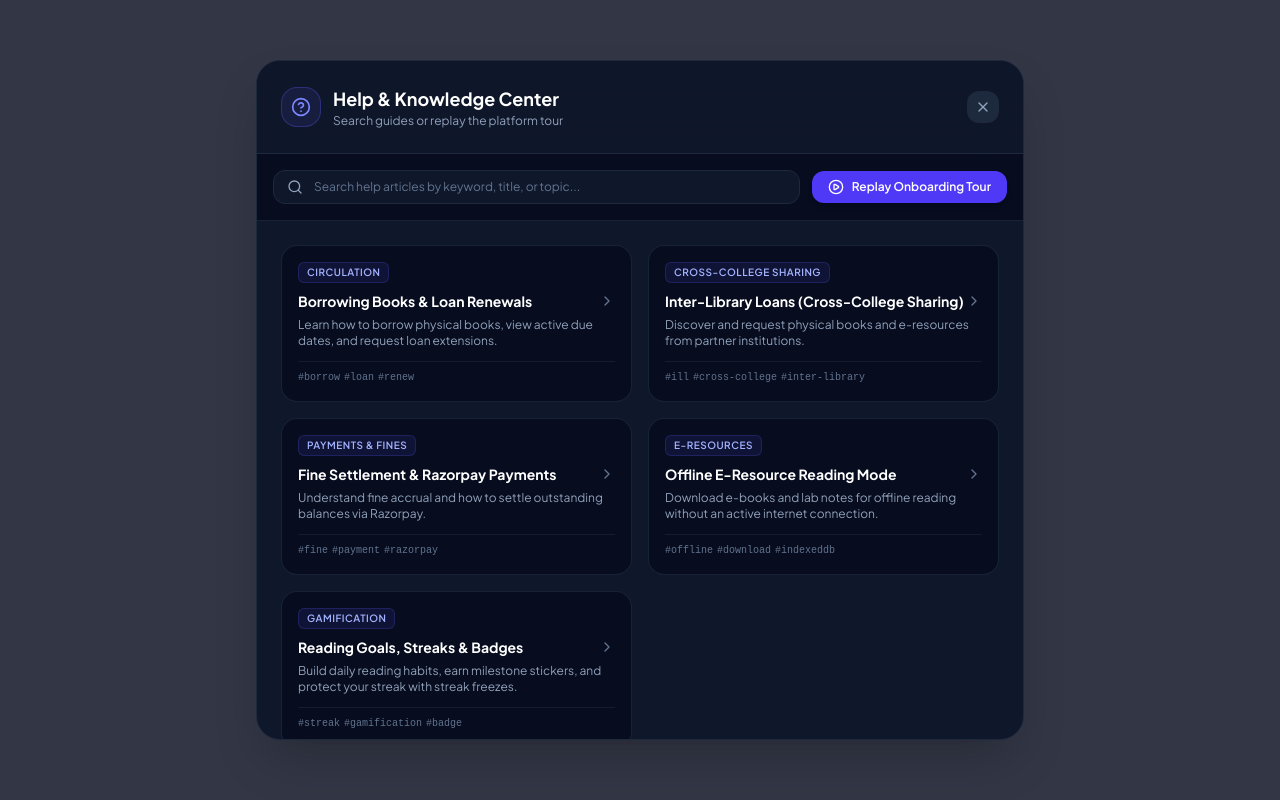
it: PatronWidgets Component Suite › Help Center & Onboarding Tour Component Suite (F9.1 - F9.4) › F9.2 — Searchable Help Modal › surfaces relevant article when searching a known keyword without page reload
Type "fine" into the field with placeholder "Search help articles by keyword, title, or topic..." at (536, 187), box [273,170,800,204]
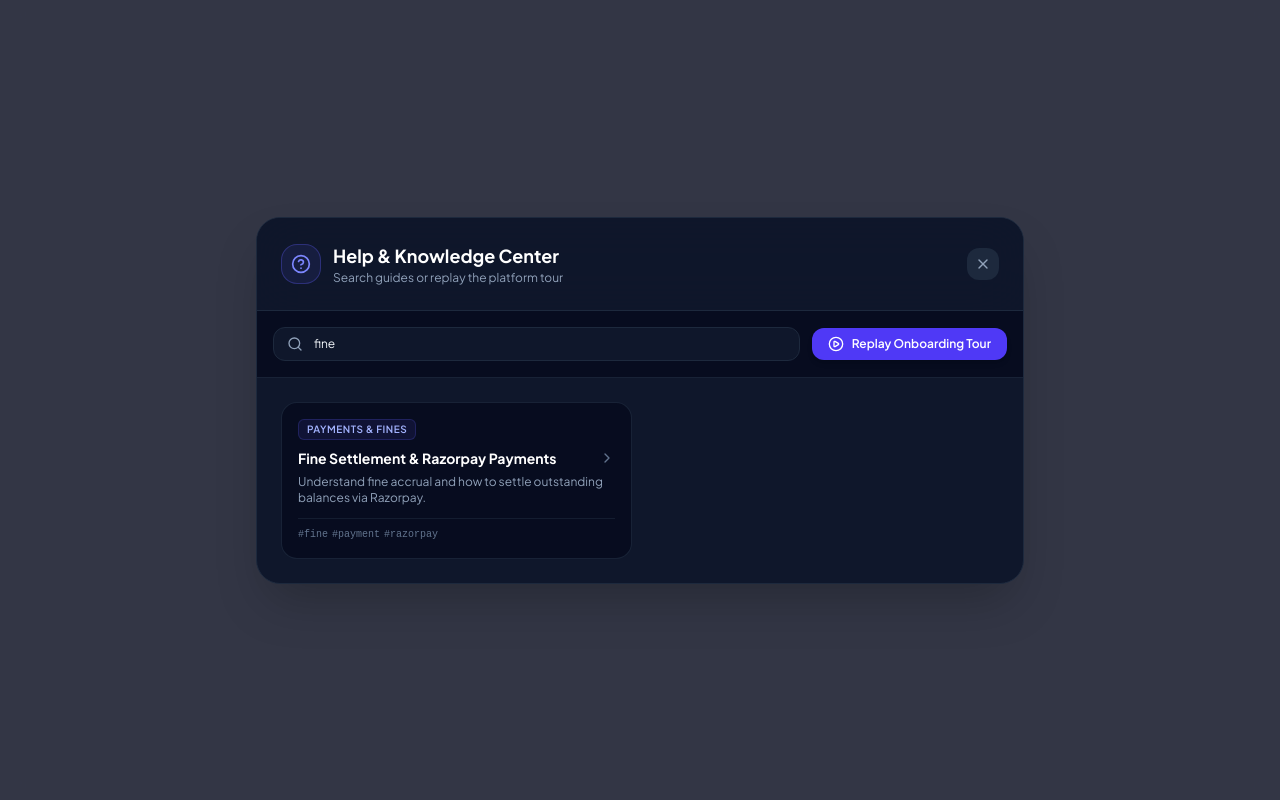
Check: the text "Fine Settlement & Razorpay Payments" is shown, box [298,448,556,468]
Check: the text "Borrowing Books & Loan Renewals" is gone
